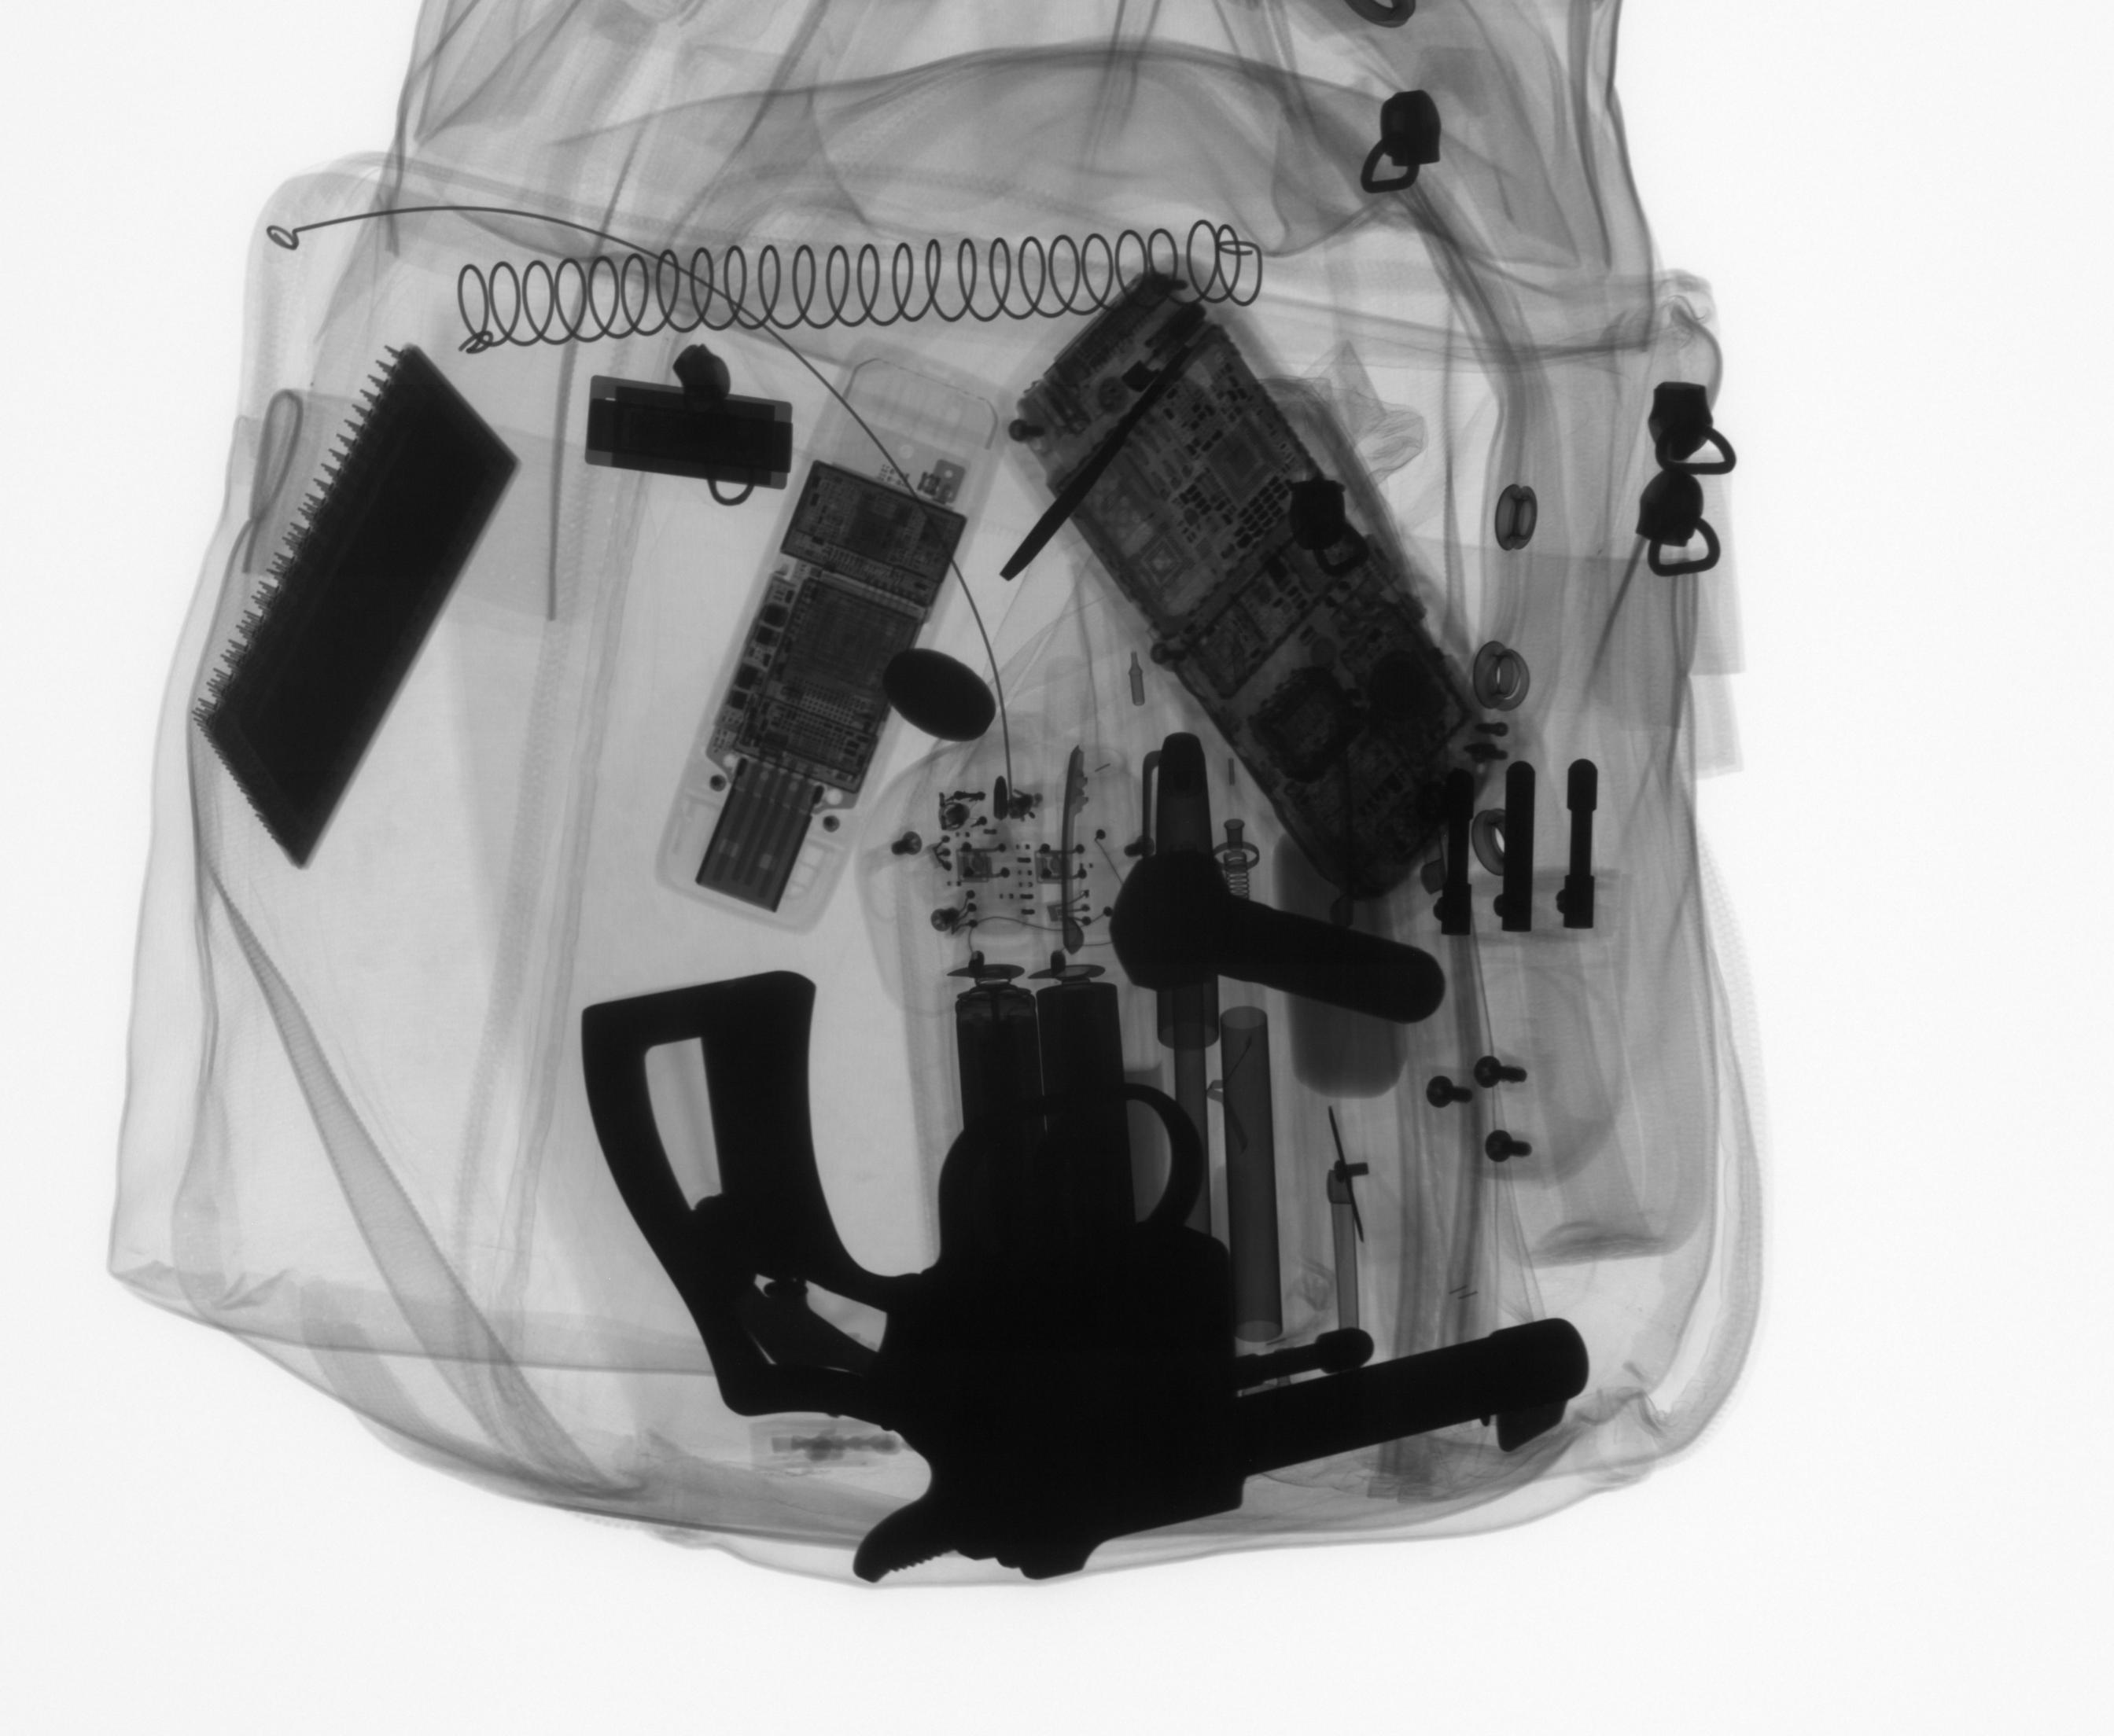Handgun: (569, 960, 1605, 1595)
